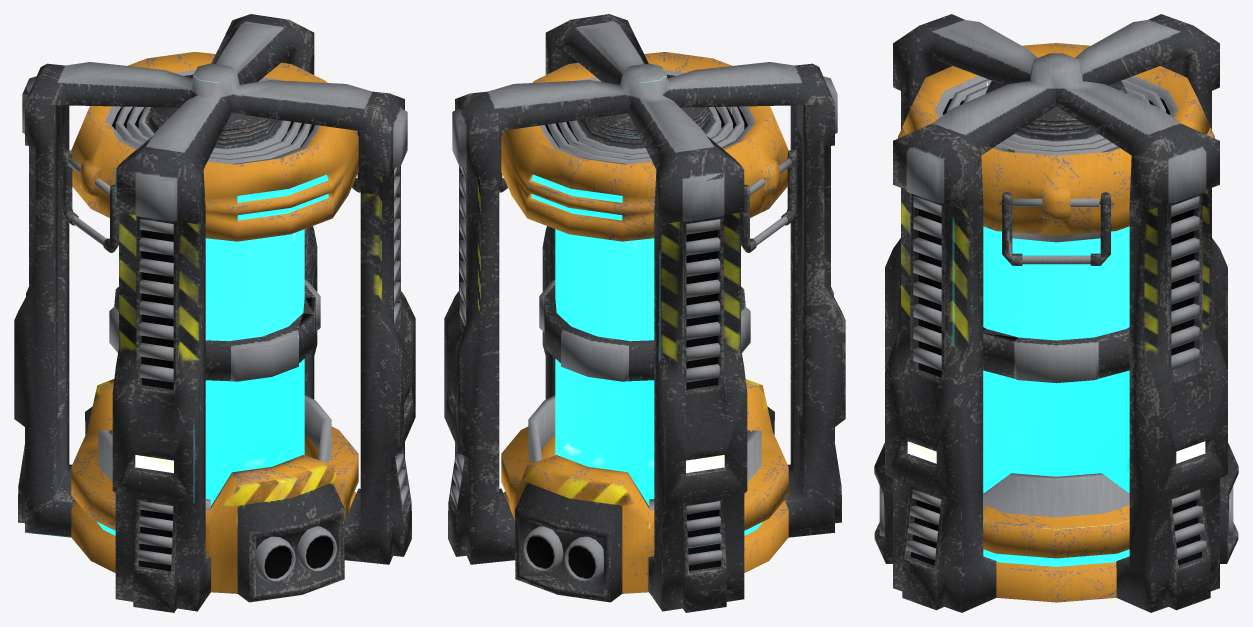
Rendered from PVP_bomb_0001_XS.fbx.
3 views of the same model, side by side, from view 1: azimuth 30°, elevation 25°; view 2: azimuth 150°, elevation 25°; view 3: azimuth 270°, elevation 25° (orthographic). The views are drawn at different scales.
Visible parts, largest first — view 1: PVP_bomb_0001_XS; view 2: PVP_bomb_0001_XS; view 3: PVP_bomb_0001_XS.
Boxes of the visible parts, box(x1,y1,x2,y2) form: PVP_bomb_0001_XS: box(14, 14, 415, 612); PVP_bomb_0001_XS: box(444, 14, 845, 612); PVP_bomb_0001_XS: box(874, 14, 1238, 612).
Size of the model in its own units: 45 by 45 by 65.
